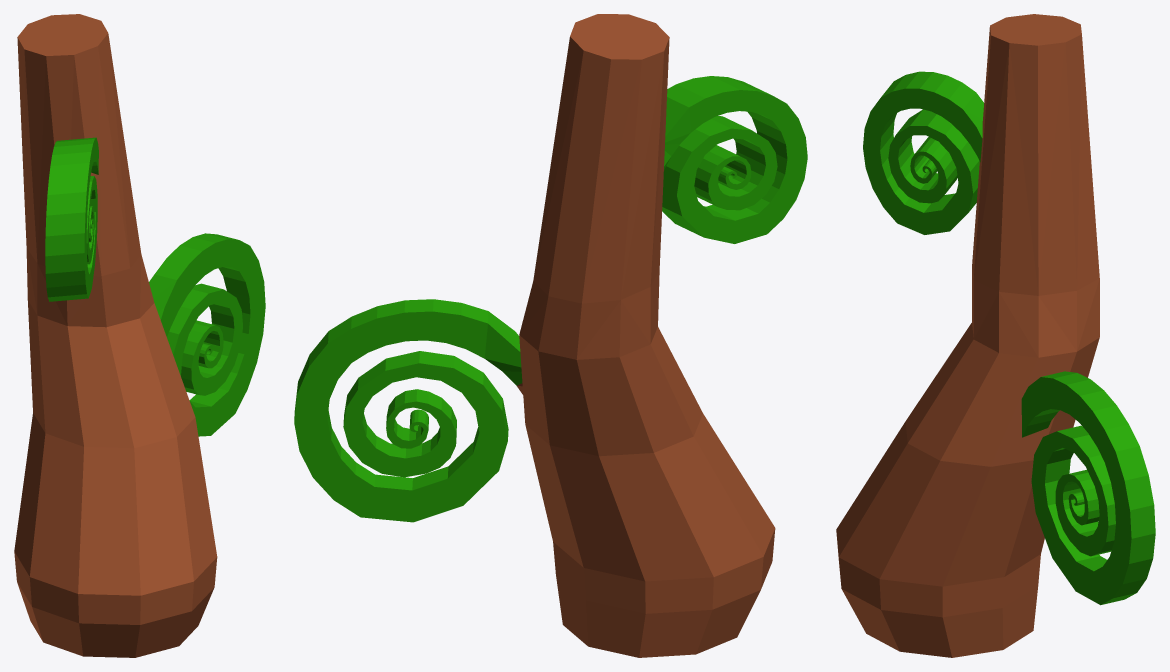
File: Vegetation_Tree_Trunk_Whimsical_Swirls_01.FBX
3 renders of one model, left to right at view 1: azimuth 30°, elevation 25°; view 2: azimuth 150°, elevation 25°; view 3: azimuth 270°, elevation 25°, orthographic. The views are drawn at different scales.
Visible parts, largest first — view 1: Vegetation_Tree_Trunk_Whimsical_Swirls_01; view 2: Vegetation_Tree_Trunk_Whimsical_Swirls_01; view 3: Vegetation_Tree_Trunk_Whimsical_Swirls_01.
Part boxes in pixels (box(x1,y1,x2,y2)): Vegetation_Tree_Trunk_Whimsical_Swirls_01: box(14, 14, 265, 657); Vegetation_Tree_Trunk_Whimsical_Swirls_01: box(294, 14, 807, 657); Vegetation_Tree_Trunk_Whimsical_Swirls_01: box(836, 14, 1155, 657).
Size of the model in its own units: 2215 by 3488 by 1712.
